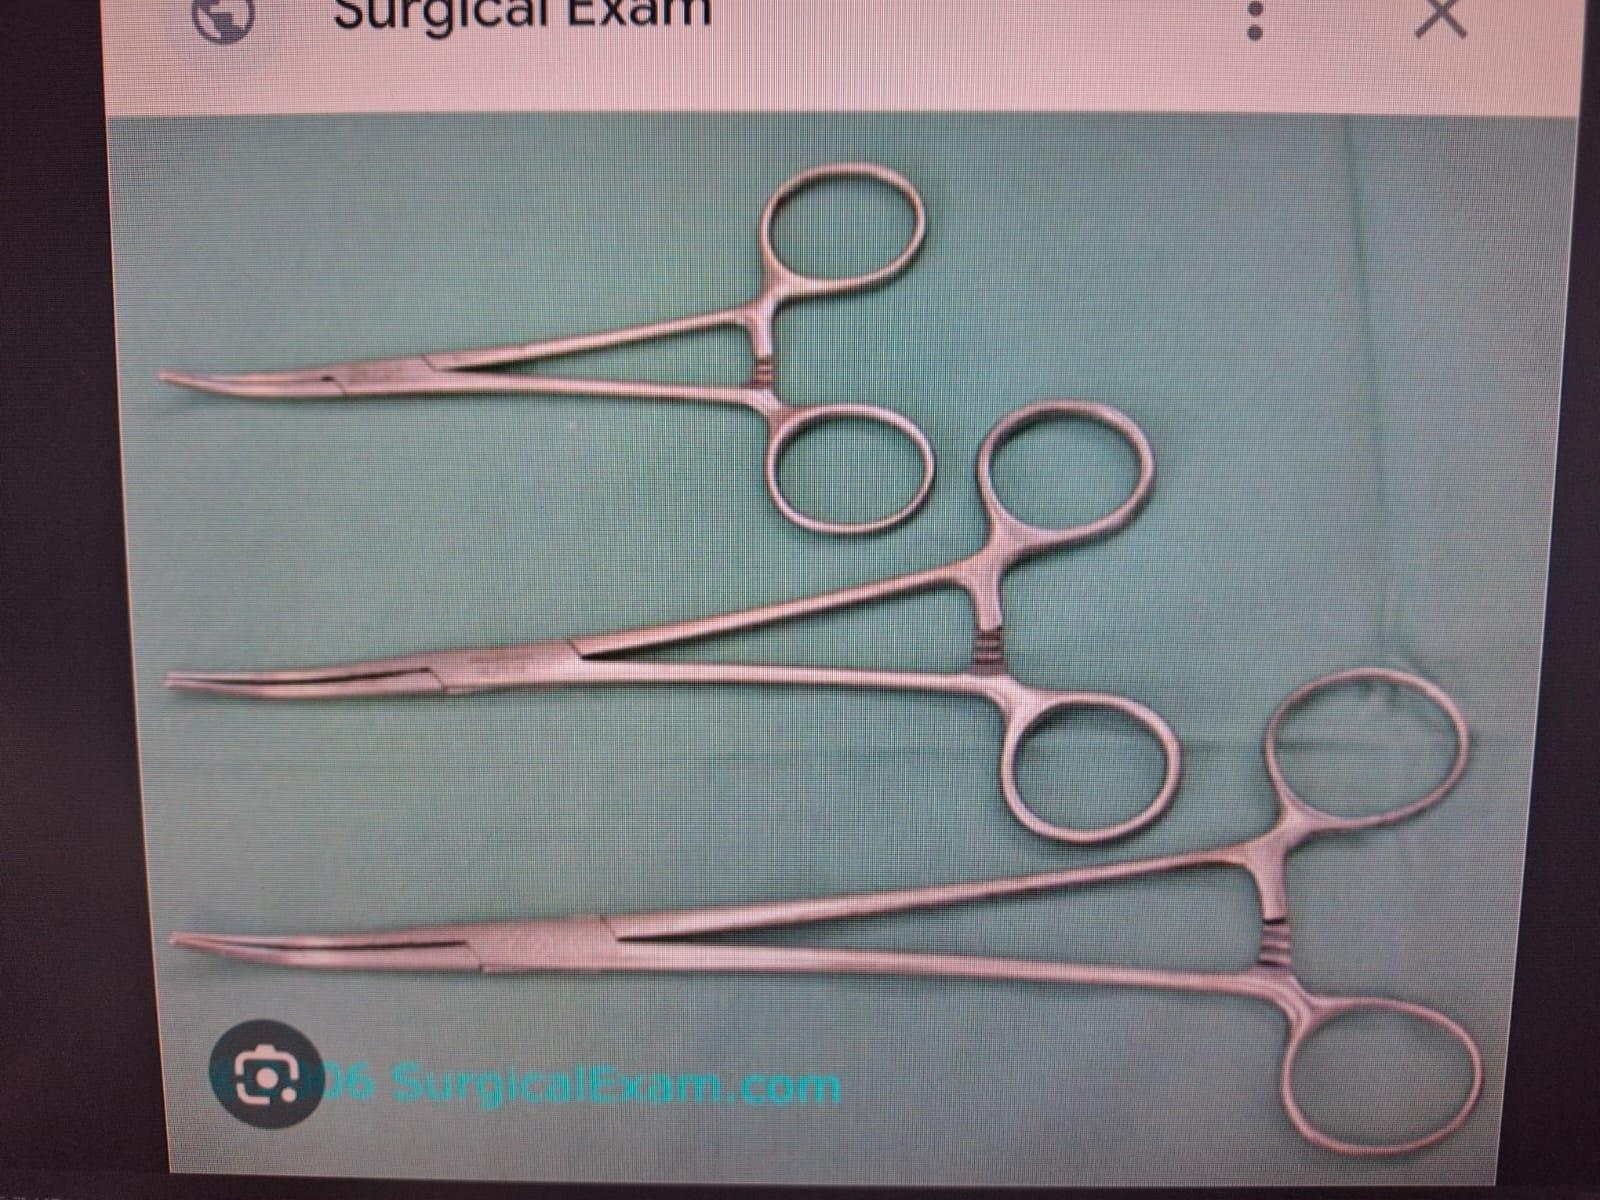Artery Forceps: (150, 655, 1518, 1200), (154, 396, 1196, 866), (136, 146, 952, 534)
